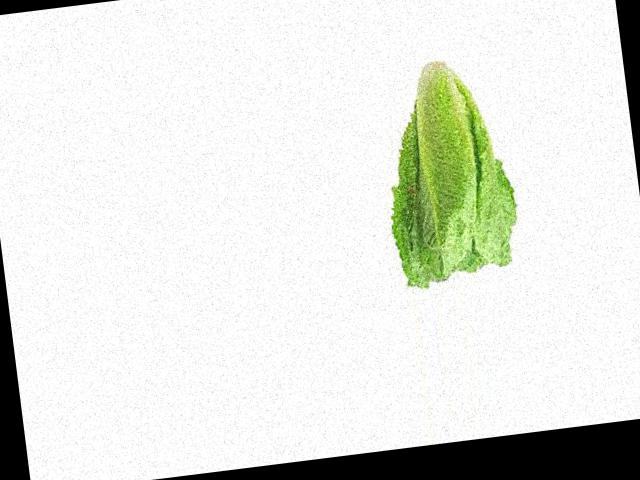lettuce: (373, 59, 511, 285)
